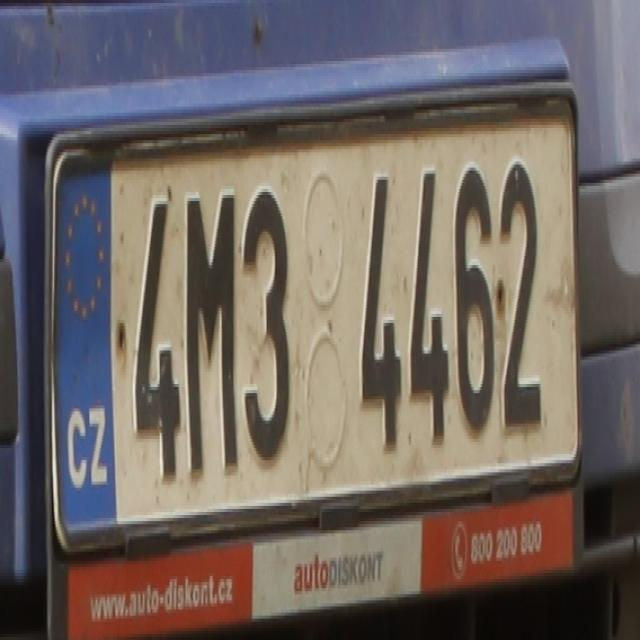2: (497, 155, 542, 436)
3: (241, 180, 290, 478)
4: (129, 177, 179, 490), (356, 165, 402, 457), (408, 152, 451, 448)
6: (453, 152, 493, 436)
M: (184, 186, 239, 481)
